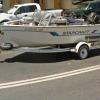Boat: (0, 10, 99, 66)
